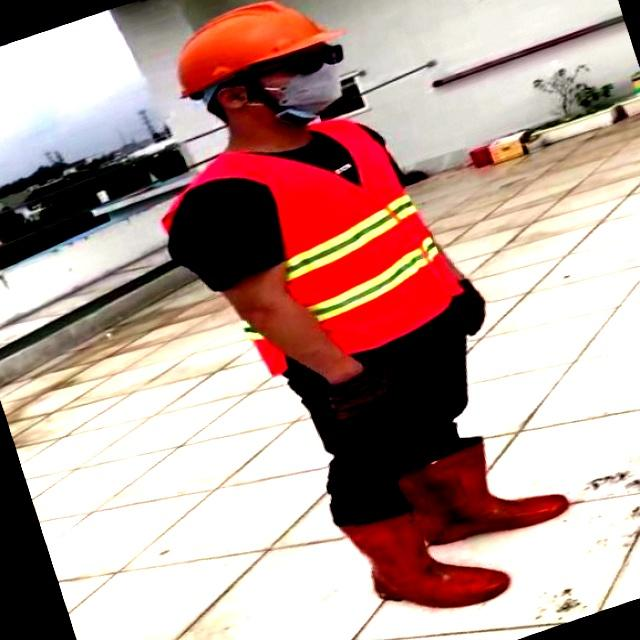helmet: (170, 0, 350, 100)
safety_vest: (160, 103, 467, 400)
